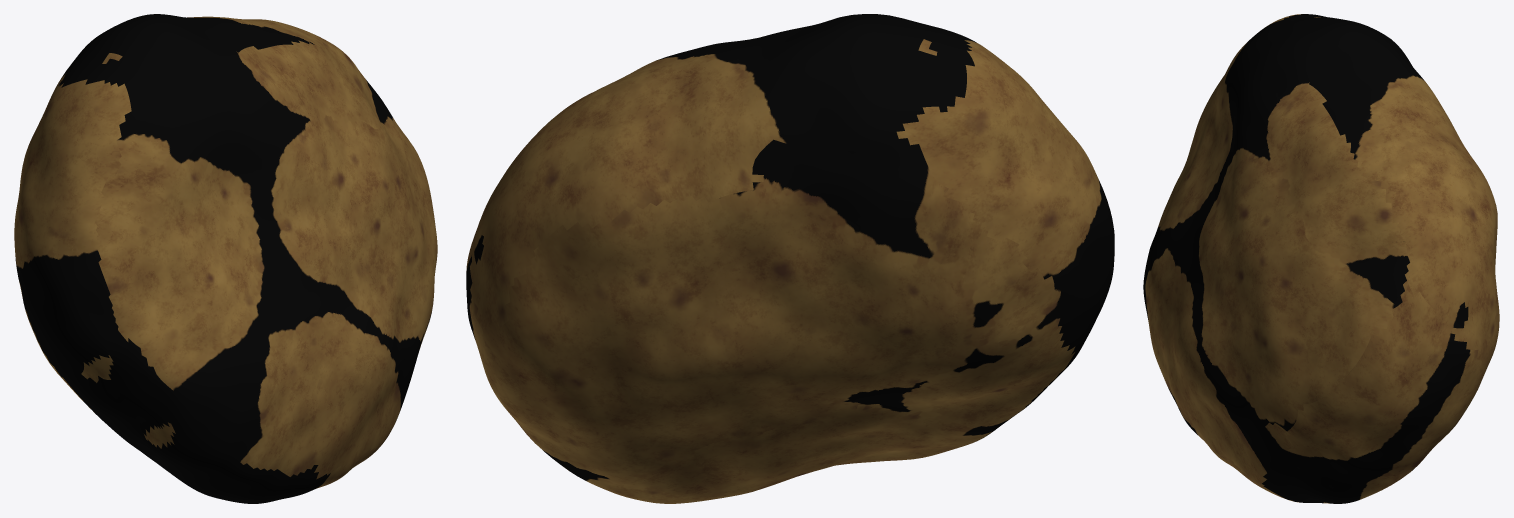
The picture shows the model from 3 angles, left to right: view 1: azimuth 30°, elevation 25°; view 2: azimuth 150°, elevation 25°; view 3: azimuth 270°, elevation 25°; orthographic projection. The views are drawn at different scales.
Parts seen in each view (by area): view 1: original_ico.011; view 2: original_ico.011; view 3: original_ico.011.
Boxes of the visible parts, left/top/right/bottom form: original_ico.011: left=14, top=14, right=437, bottom=503; original_ico.011: left=466, top=14, right=1114, bottom=503; original_ico.011: left=1143, top=14, right=1499, bottom=503.
Size of the model in its own units: 4 by 3.83 by 3.09.
